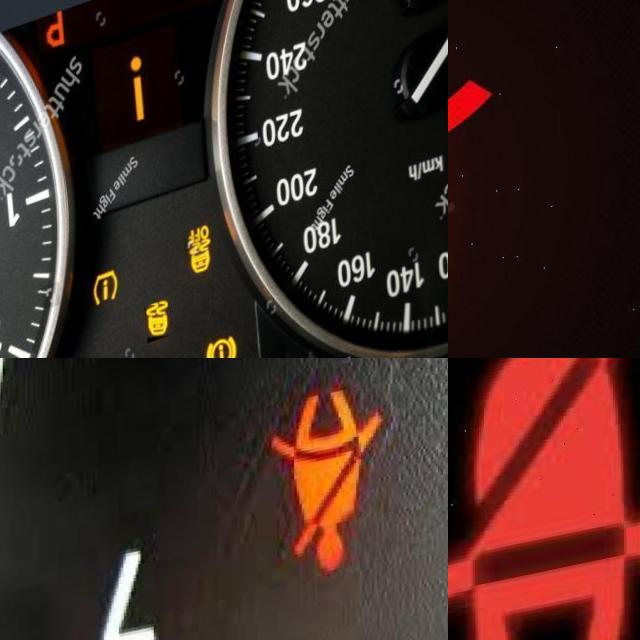Seat Belt: (448, 358, 640, 640), (268, 397, 382, 594), (448, 21, 492, 358)
